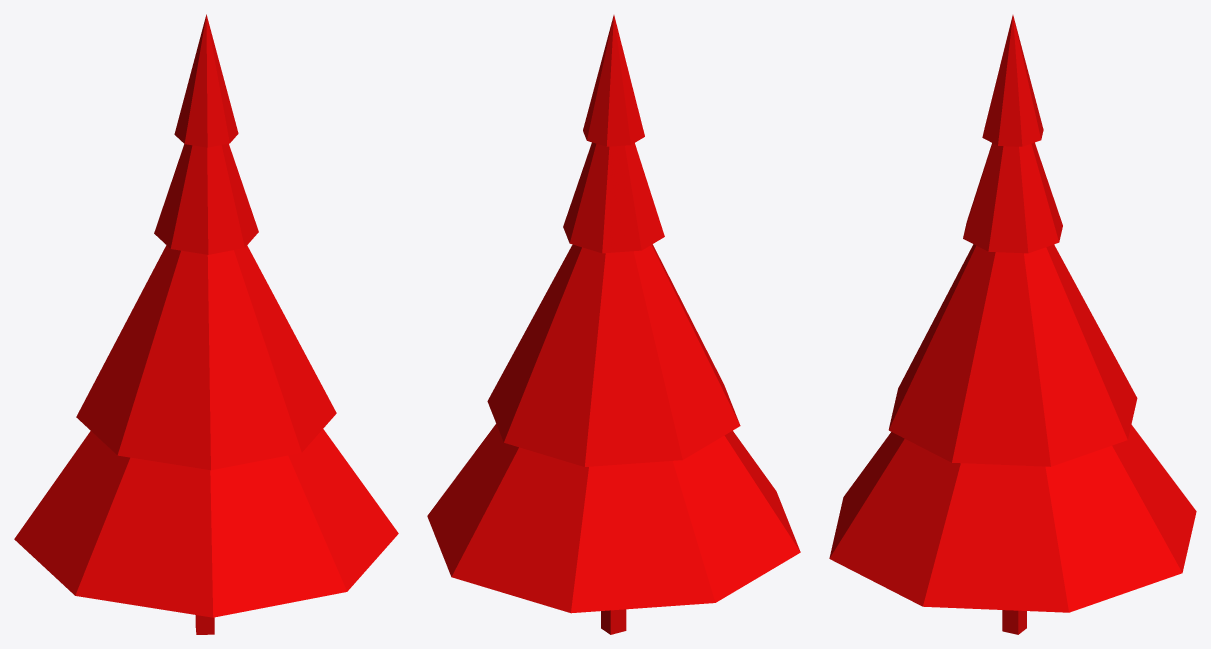
Rendered from tree_red.gltf.
3 renders of one model, left to right at view 1: azimuth 30°, elevation 25°; view 2: azimuth 150°, elevation 25°; view 3: azimuth 270°, elevation 25°, orthographic.
Visible parts, largest first — view 1: element; view 2: element; view 3: element.
Boxes of the visible parts, x1,y1,x2,y2 form: element: [14, 14, 398, 634]; element: [427, 15, 800, 634]; element: [829, 15, 1196, 634].
Size of the model in its own units: 6.04 by 11.18 by 6.04.
